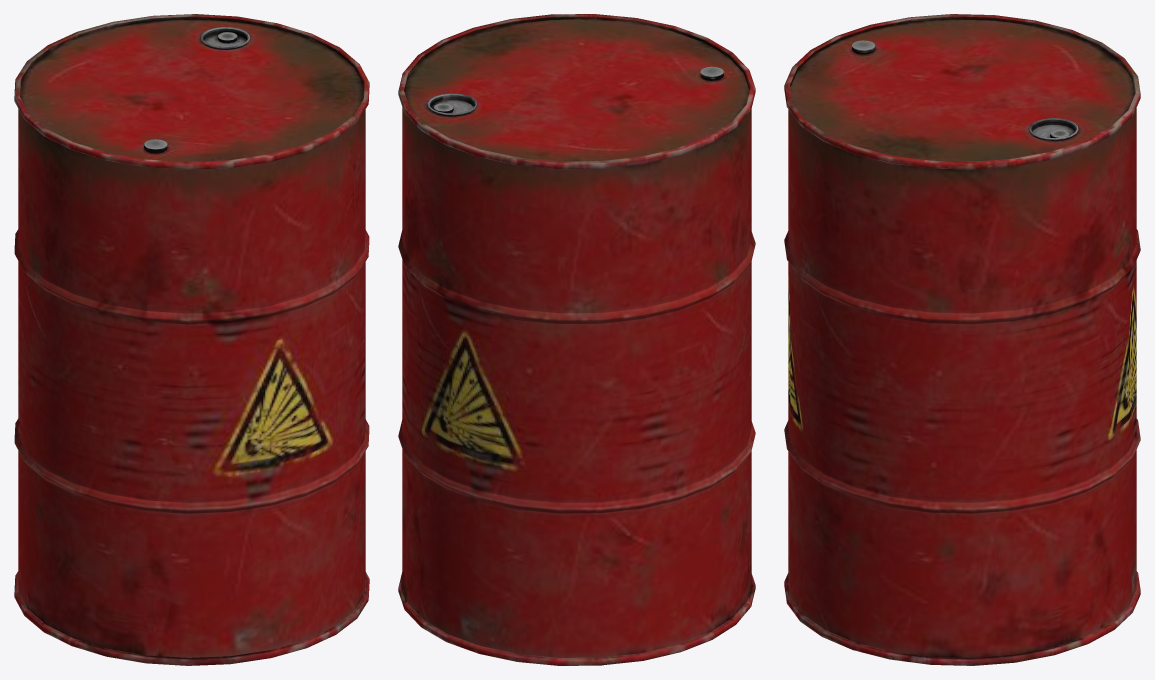
Rendered from barrel.glb.
3 views of the same model, side by side, from view 1: azimuth 30°, elevation 25°; view 2: azimuth 150°, elevation 25°; view 3: azimuth 270°, elevation 25° (orthographic).
Visible parts, largest first — view 1: Barrel_01; view 2: Barrel_01; view 3: Barrel_01.
Boxes of the visible parts, x1,y1,x2,y2 form: Barrel_01: [14, 14, 369, 665]; Barrel_01: [398, 14, 755, 665]; Barrel_01: [784, 14, 1140, 665].
Bounding box in the file's own units: 0.563 × 0.88 × 0.563.
Materials: 1 (1 with a texture image).
